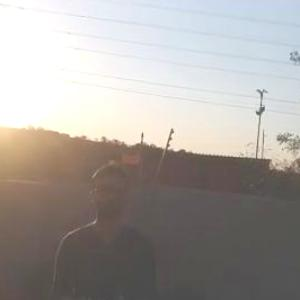follow: (47, 157, 166, 299)
